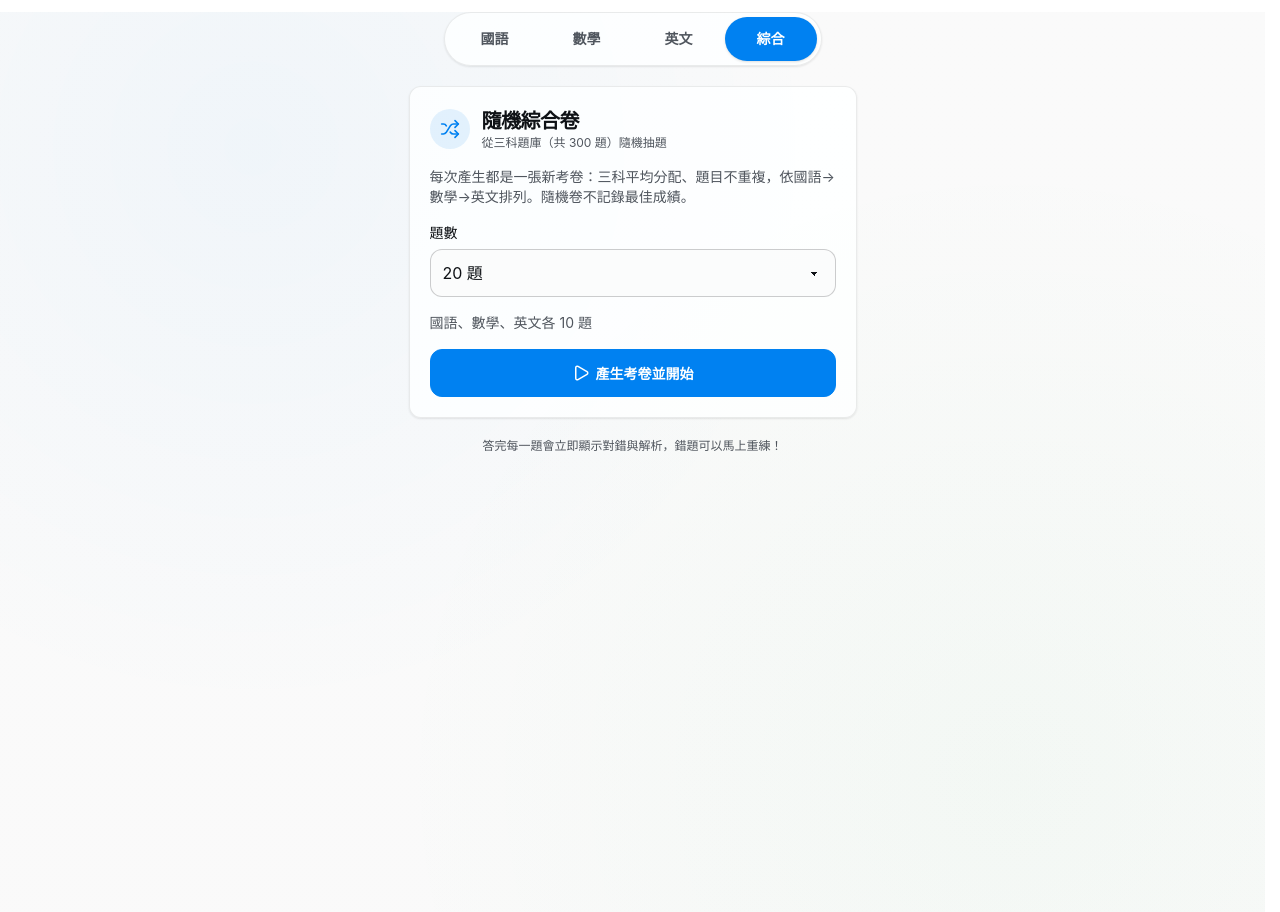
Scenario: ExamPracticePage mixed random paper › generates a paper with the selected count and starts immediately
Select "20 題" in the dropdown labelled "題數" at (632, 273), box [430,249,836,297]
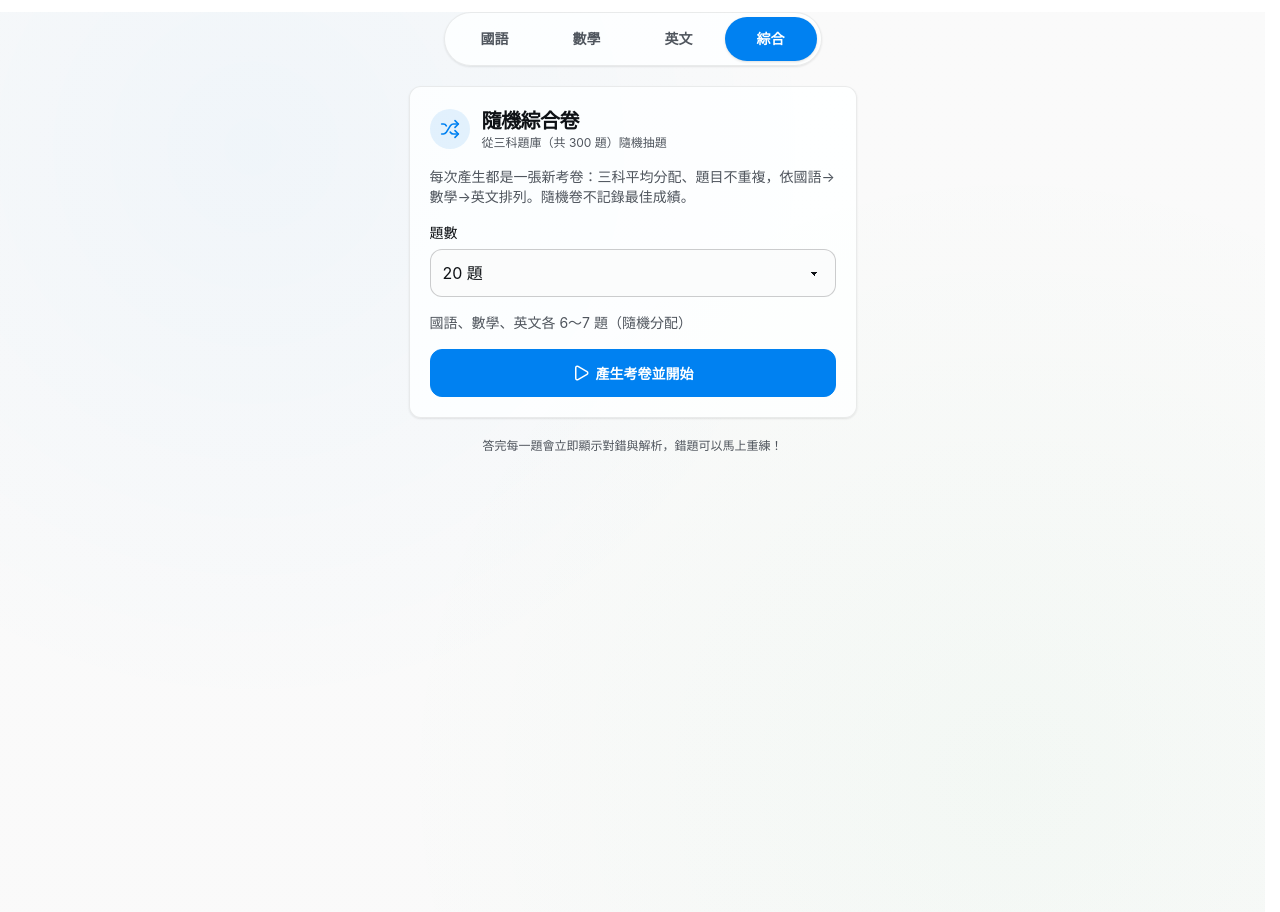
Click the button "產生考卷並開始" at (632, 373), box [430,349,836,397]
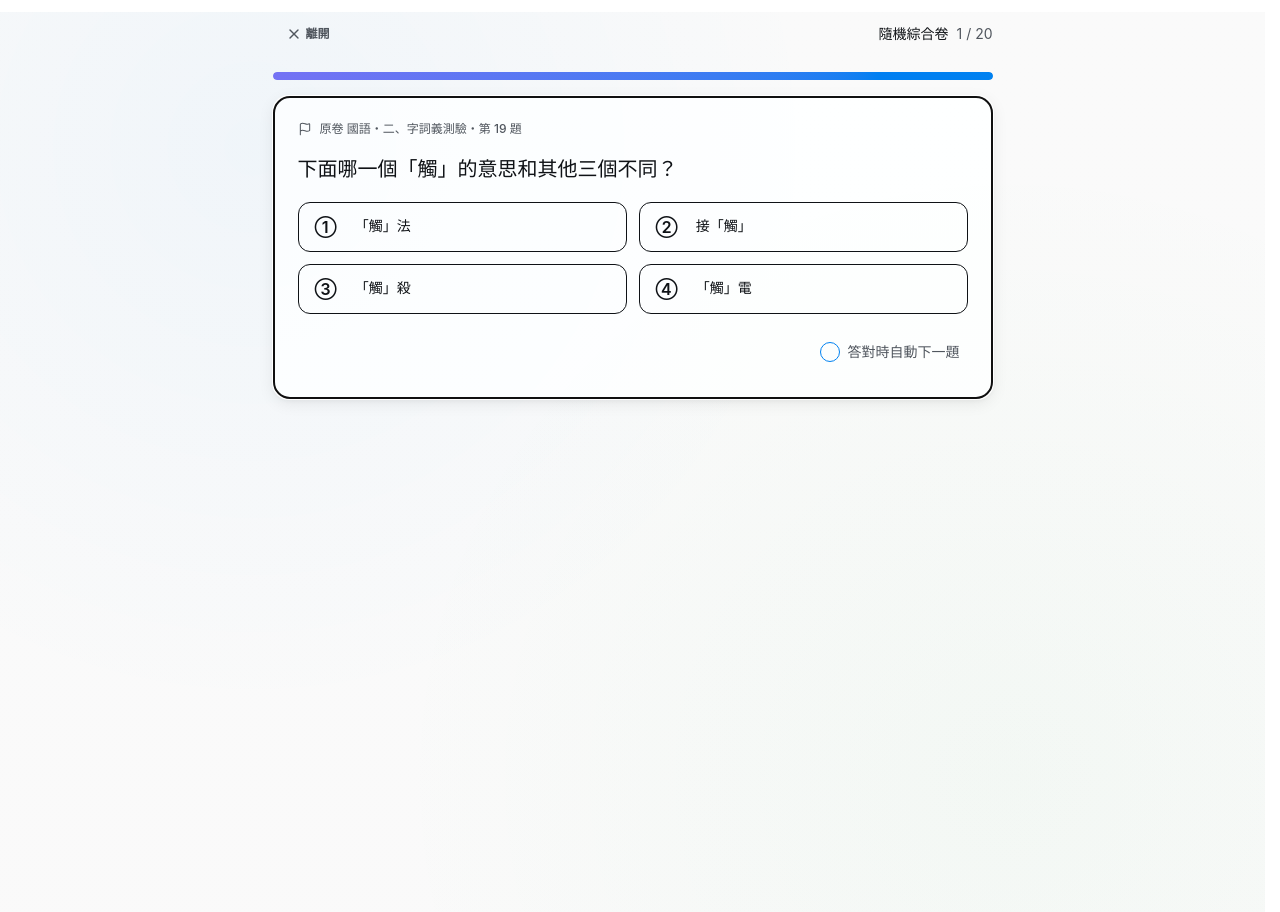
Check: the text "隨機綜合卷" is shown, box [878,24,948,44]
Check: the text "1 / 20" is shown, box [956,24,992,44]
Check: the text "原卷 國語" is shown, box [320,121,522,136]
